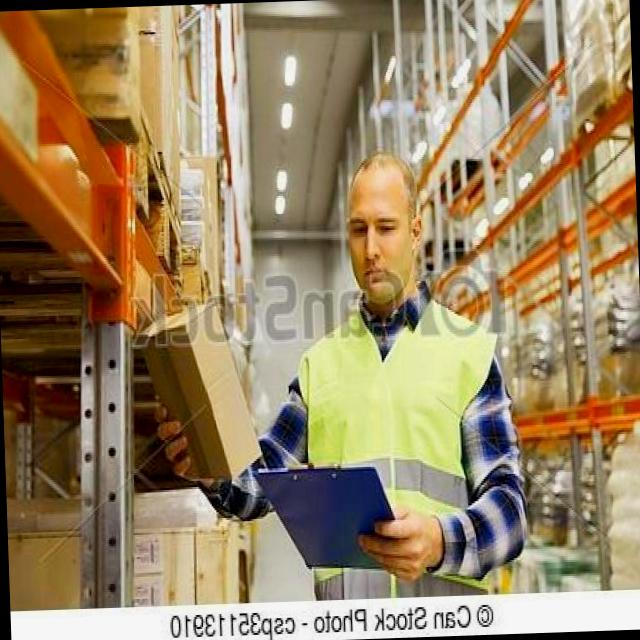vest: (276, 320, 479, 544)
